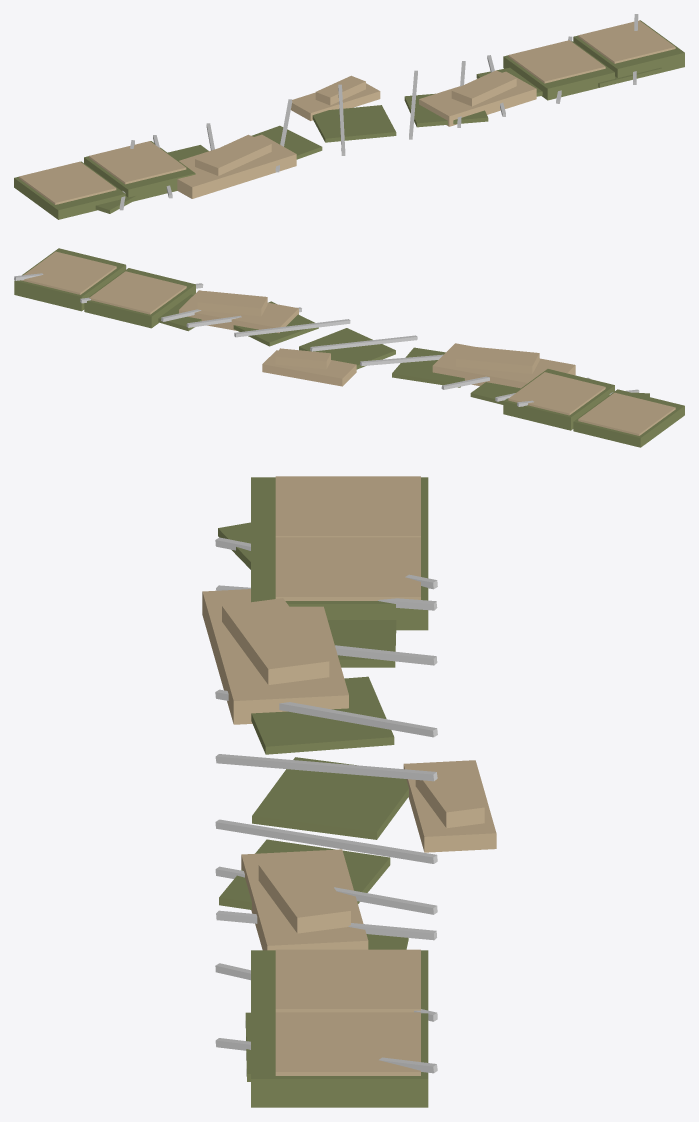
Rendered from SM_MuroHesco_v2_Escalonado_e3_Brecha_LOD0.fbx.
3 renders of one model, top to bottom at view 1: azimuth 30°, elevation 25°; view 2: azimuth 150°, elevation 25°; view 3: azimuth 270°, elevation 25°, orthographic. The views are drawn at different scales.
Parts seen in each view (by area): view 1: SM_bloques.muro_hesco_estados_v11_LOD0; view 2: SM_bloques.muro_hesco_estados_v11_LOD0; view 3: SM_bloques.muro_hesco_estados_v11_LOD0.
Boxes of the visible parts, bbox=[...] form: SM_bloques.muro_hesco_estados_v11_LOD0: bbox=[14, 14, 684, 219]; SM_bloques.muro_hesco_estados_v11_LOD0: bbox=[14, 248, 684, 447]; SM_bloques.muro_hesco_estados_v11_LOD0: bbox=[202, 476, 496, 1107].
Size of the model in its own units: 9.96 by 0.3263 by 2.02.
